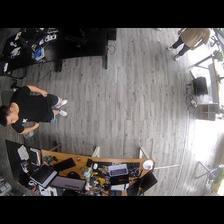normal: (1, 84, 68, 135)
